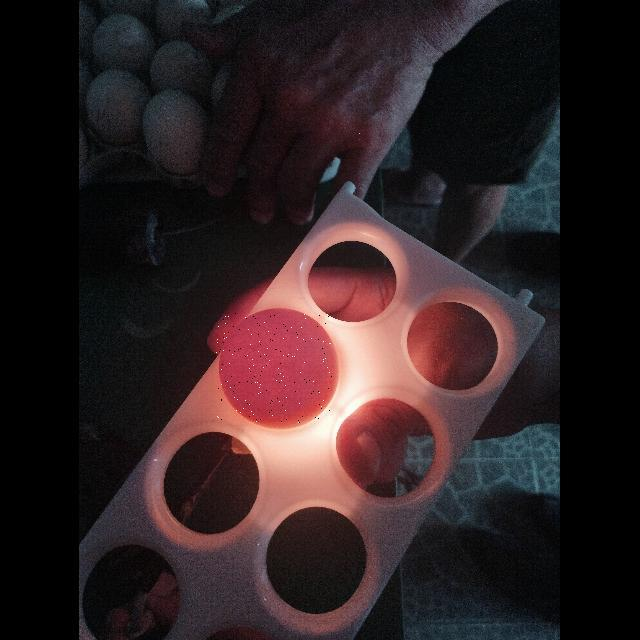A - Good: (216, 313, 332, 423)
